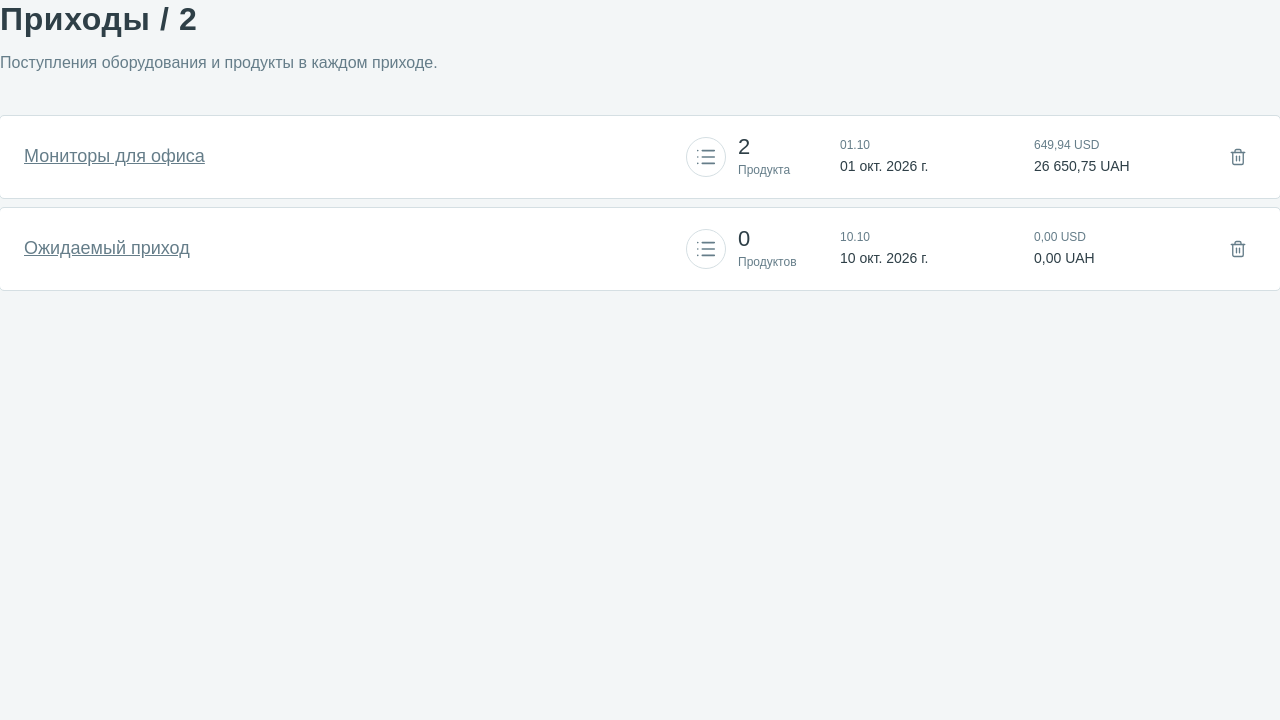
Test case: OrdersList with RTK Query › deletes an empty order while preserving another order's selected panel
The width and height of the screenshot is (1280, 720).
Click the button named "Открыть приход «Мониторы для офиса»". click: (706, 157)
box: [686, 137, 726, 177]
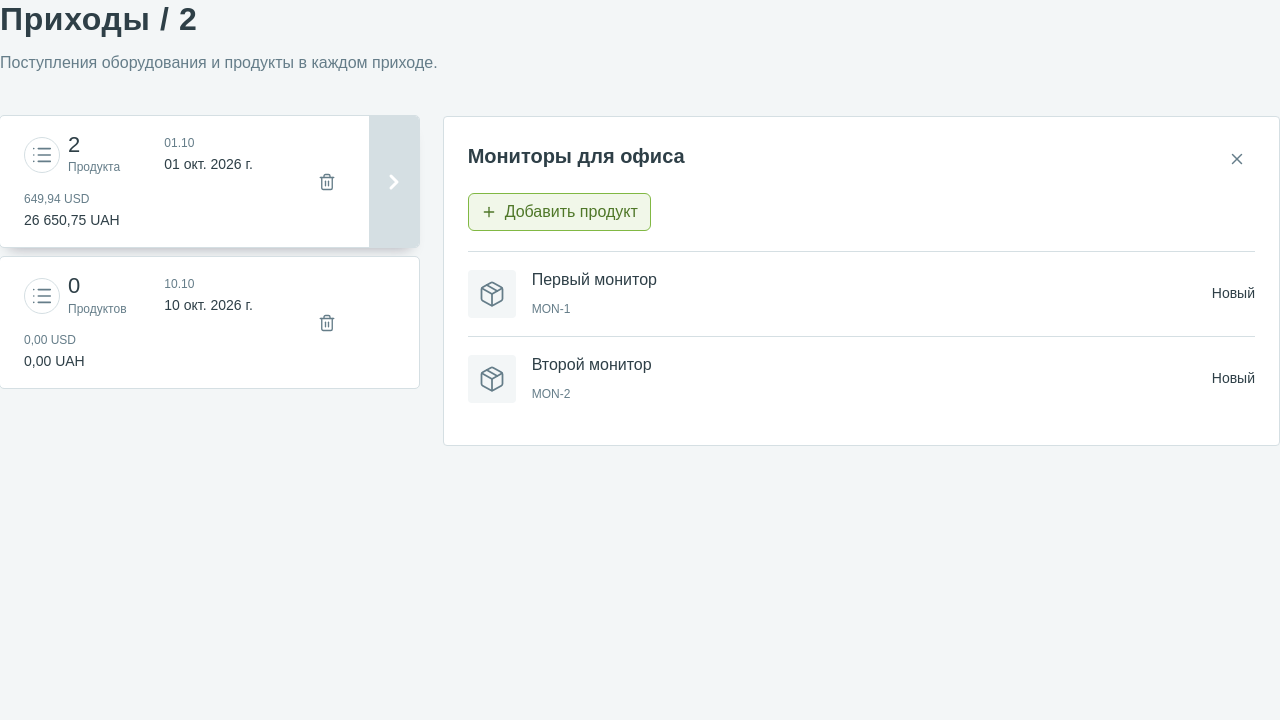
expect the text "Первый монитор" is shown: met, box [532, 271, 657, 288]
Click the button named "Удалить приход «Ожидаемый приход»". click: (327, 323)
box: [309, 305, 345, 341]
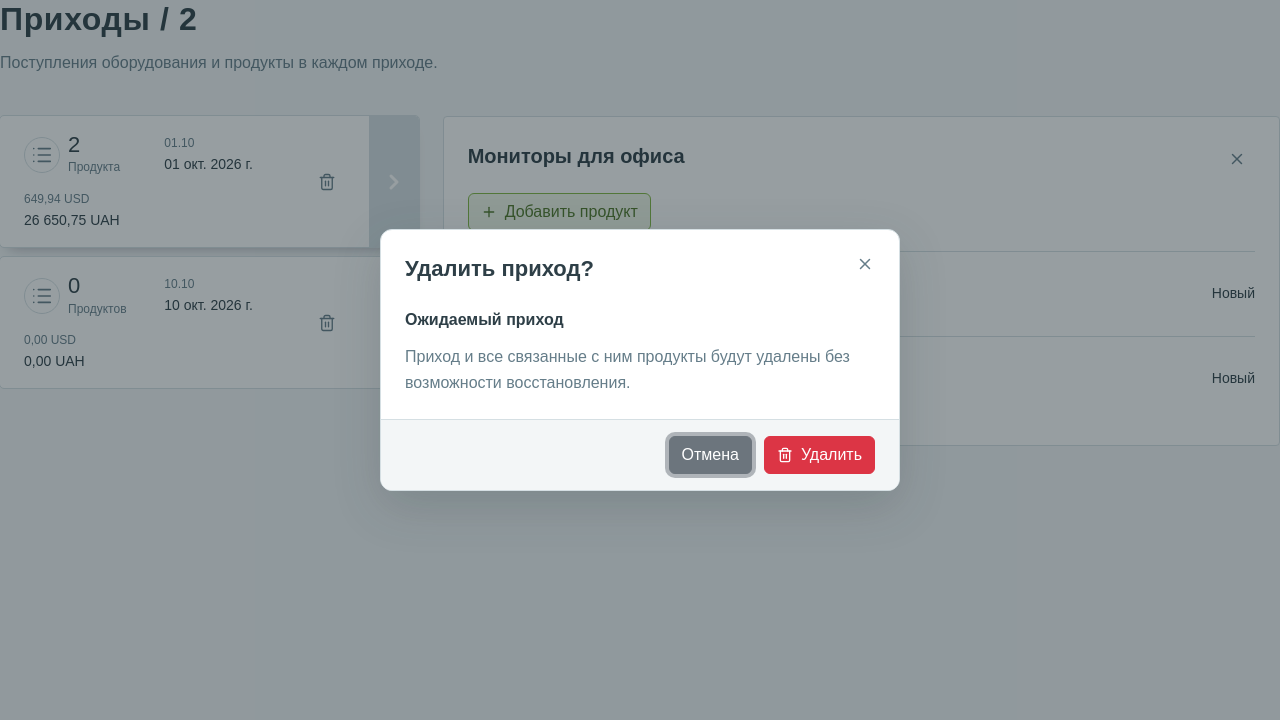
Click the button "Удалить". click: (819, 456)
box: [764, 436, 875, 474]
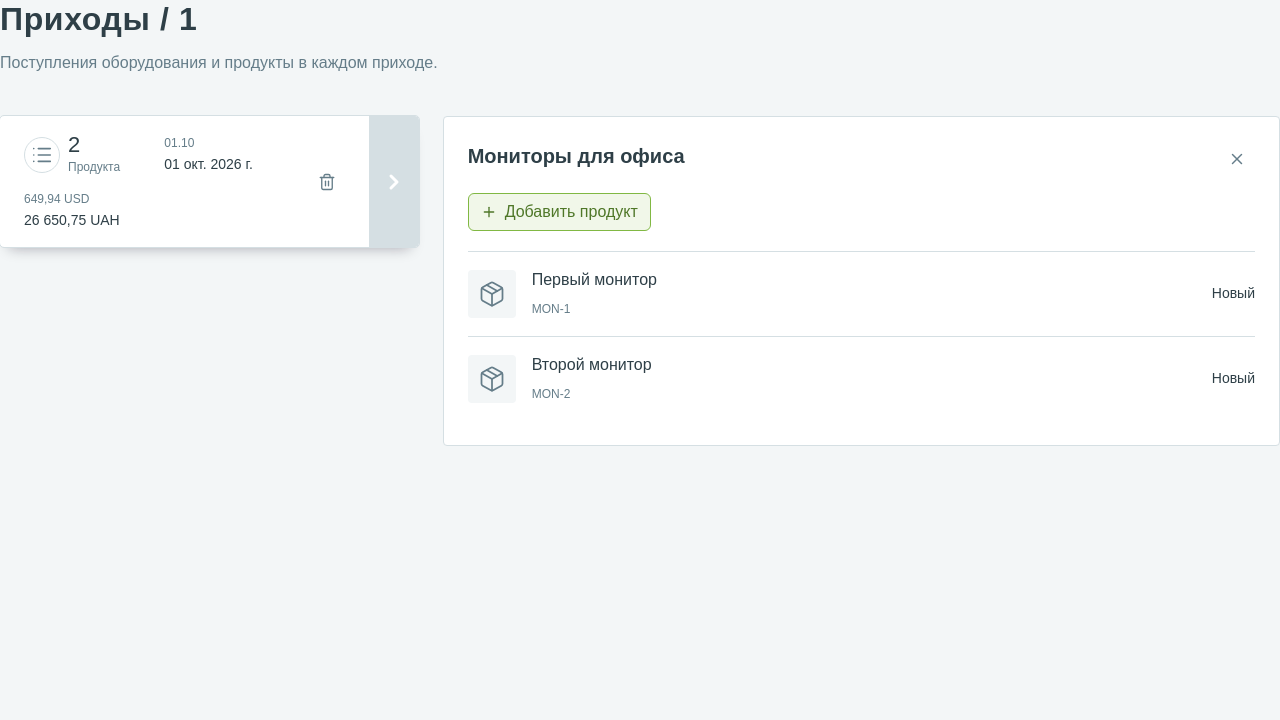
expect the element that starts with "Мониторы для офиса" shows "Первый монитор": met, box [532, 271, 657, 288]
expect the dialog is gone: met
expect the text "Ожидаемый приход" is gone: met
